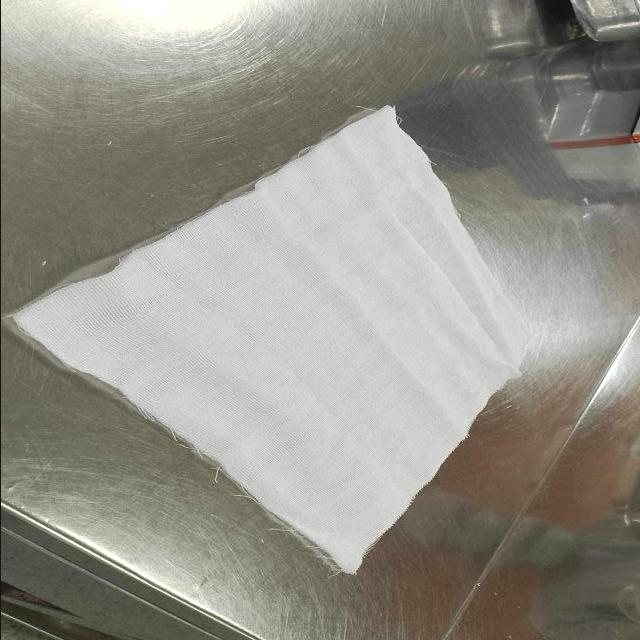Infectious: (7, 104, 532, 577)
Sharps: (438, 314, 640, 640)
